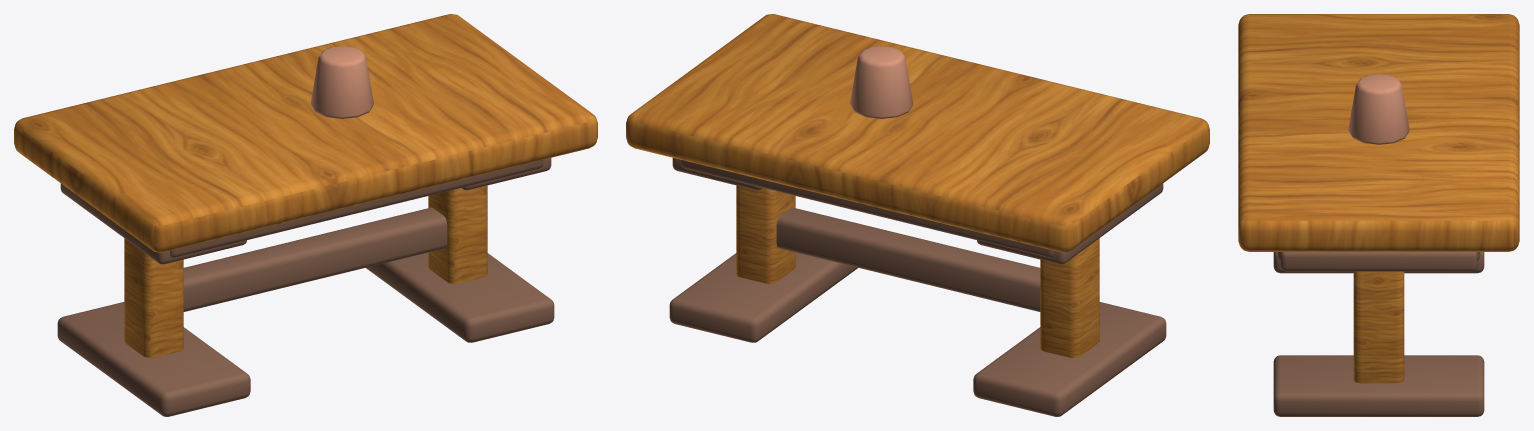
The model's file is dining-table.glb.
3 views of the same model, side by side, from view 1: azimuth 30°, elevation 25°; view 2: azimuth 150°, elevation 25°; view 3: azimuth 270°, elevation 25° (orthographic). The views are drawn at different scales.
Visible parts, largest first — view 1: dining-table; view 2: dining-table; view 3: dining-table.
Part boxes in pixels (bbox=[...]): dining-table: bbox=[14, 14, 597, 416]; dining-table: bbox=[626, 14, 1209, 416]; dining-table: bbox=[1238, 14, 1519, 416].
Size of the model in its own units: 1.6 by 0.9225 by 0.9.
Materials: 3 (1 with a texture image).
